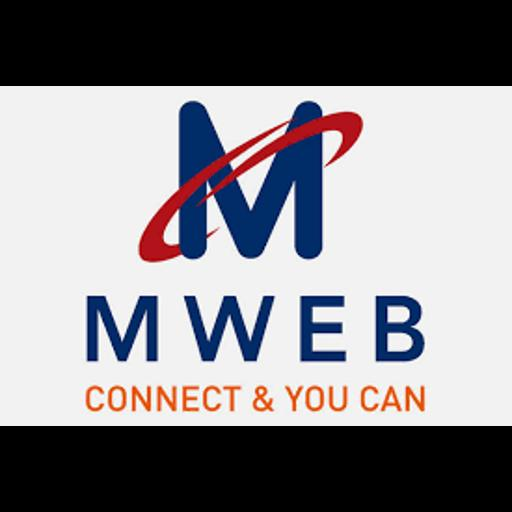MWeb: (0, 86, 512, 426)
